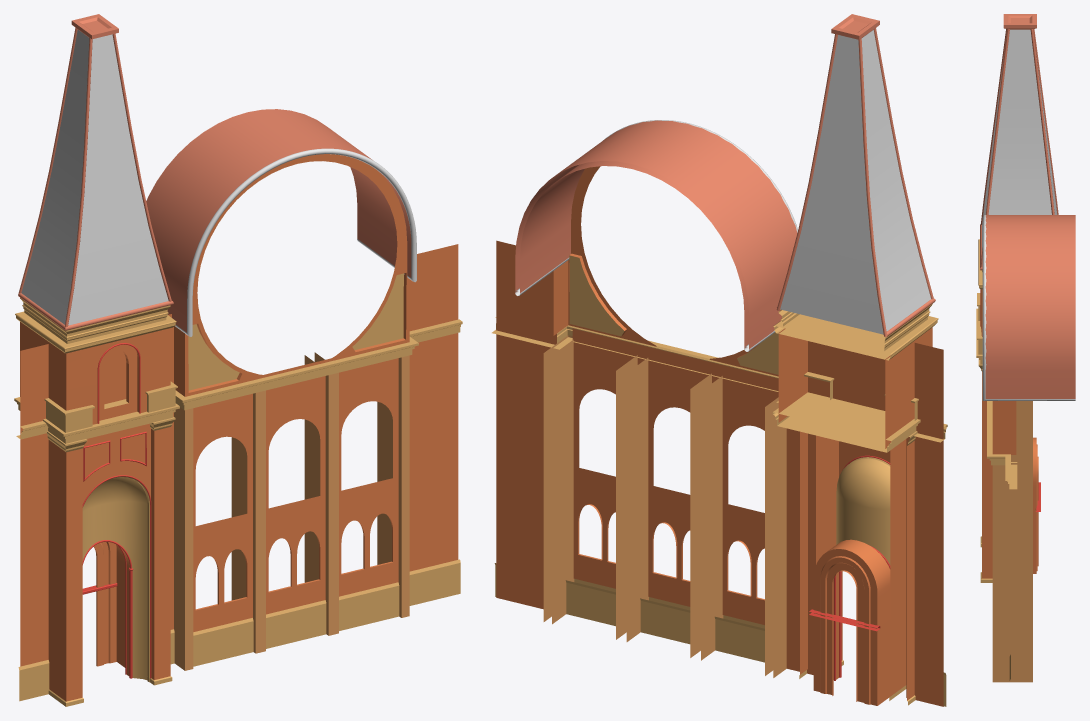
The model's file is SP_House10_FrontWall01.fbx.
3 views of the same model, side by side, from view 1: azimuth 30°, elevation 25°; view 2: azimuth 150°, elevation 25°; view 3: azimuth 270°, elevation 25° (orthographic). The views are drawn at different scales.
Parts seen in each view (by area): view 1: SP_House10_FrontWall01; view 2: SP_House10_FrontWall01; view 3: SP_House10_FrontWall01.
Part boxes in pixels (x1=…): SP_House10_FrontWall01: x1=14, y1=14, x2=462, y2=706; SP_House10_FrontWall01: x1=492, y1=14, x2=947, y2=706; SP_House10_FrontWall01: x1=976, y1=14, x2=1075, y2=682.
Bounding box in the file's own units: 21.46 × 30.28 × 5.02.
